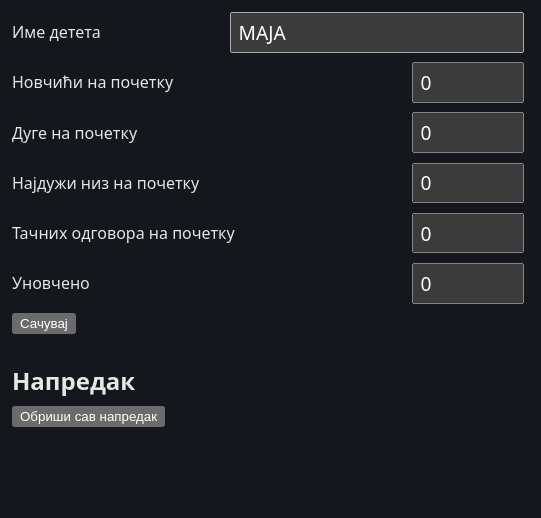
Scenario: clearing the saved name closes the reset confirm
The image size is (541, 518).
Click the button "Обриши сав напредак" at (89, 417), box x1=12 y1=406 x2=165 y2=427
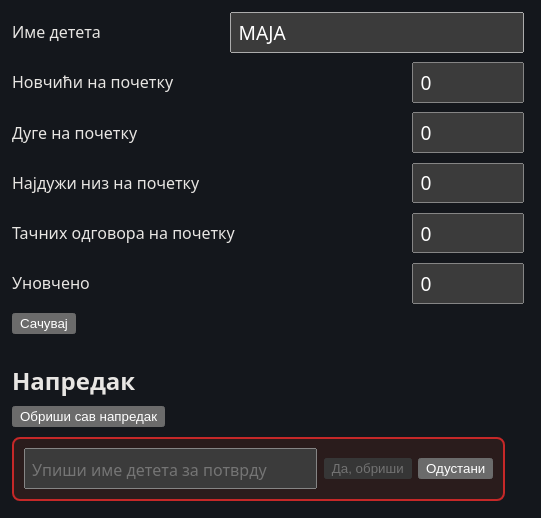
Clear the field labelled "Име детета" at (377, 32), box x1=230 y1=12 x2=524 y2=53
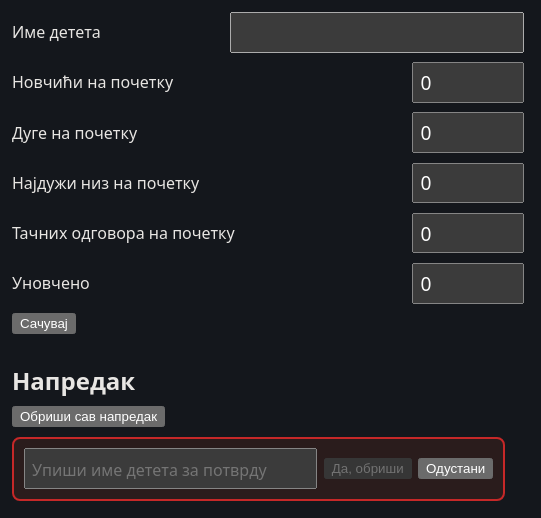
Click the button "Сачувај" at (44, 324), box x1=12 y1=313 x2=76 y2=334
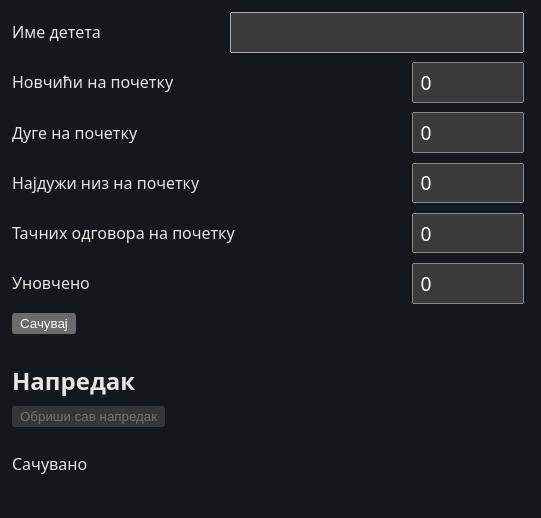
Expected: the field with placeholder "Упиши име детета за потврду" is not shown
Expected: the text "Сачувано" is shown, x1=12 y1=453 x2=87 y2=475
Expected: the button "Обриши сав напредак" is disabled, x1=12 y1=406 x2=165 y2=427
